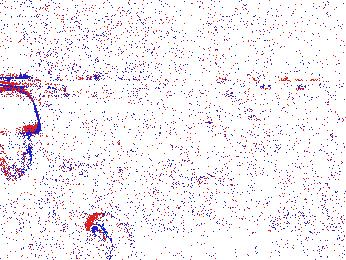flame jellyfish: (1, 87, 42, 182), (216, 206, 284, 260), (74, 212, 133, 260)
